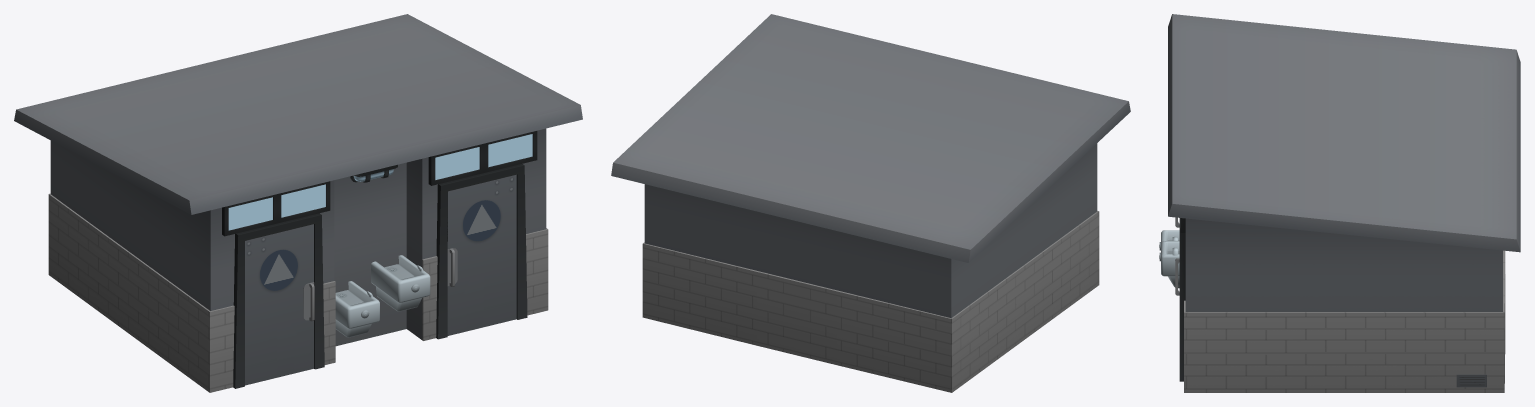
The model's file is Restroom.fbx.
3 views of the same model, side by side, from view 1: azimuth 30°, elevation 25°; view 2: azimuth 150°, elevation 25°; view 3: azimuth 270°, elevation 25° (orthographic). The views are drawn at different scales.
Parts seen in each view (by area): view 1: Restroom, Doors; view 2: Restroom; view 3: Restroom, Doors.
Part boxes in pixels (left/top/right/bottom): Restroom: left=14, top=14, right=582, bottom=392; Doors: left=233, top=164, right=527, bottom=388; Restroom: left=611, top=14, right=1130, bottom=392; Restroom: left=1159, top=14, right=1520, bottom=392; Doors: left=1175, top=217, right=1185, bottom=381.
Bounding box in the file's own units: 12.68 × 6.3 × 10.21.
2 materials, 2 textured.
